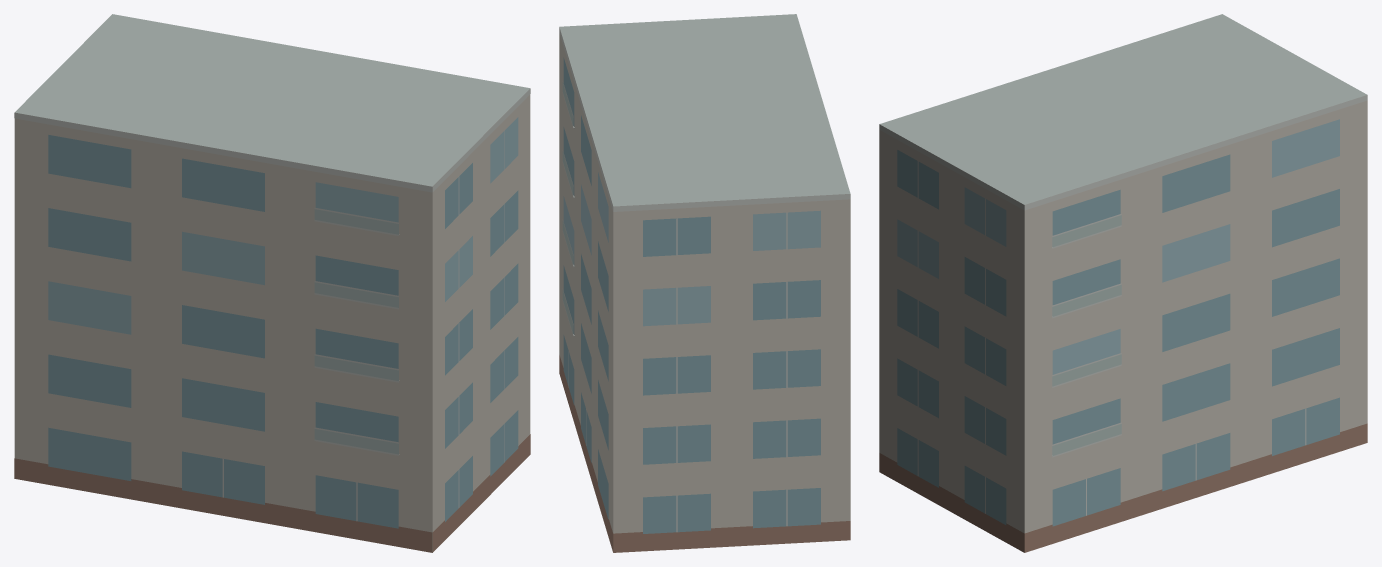
Rendered from residential-3067d6b3-f509-4951-9936-58bb5b80757c.glb.
3 renders of one model, left to right at view 1: azimuth 30°, elevation 25°; view 2: azimuth 150°, elevation 25°; view 3: azimuth 270°, elevation 25°, orthographic. The views are drawn at different scales.
Visible parts, largest first — view 1: residential-3067d6b3-f509-4951-9936-58bb5b80757c.tmp; view 2: residential-3067d6b3-f509-4951-9936-58bb5b80757c.tmp; view 3: residential-3067d6b3-f509-4951-9936-58bb5b80757c.tmp.
Boxes of the visible parts, x1,y1,x2,y2 form: residential-3067d6b3-f509-4951-9936-58bb5b80757c.tmp: [14, 14, 530, 552]; residential-3067d6b3-f509-4951-9936-58bb5b80757c.tmp: [559, 14, 850, 552]; residential-3067d6b3-f509-4951-9936-58bb5b80757c.tmp: [879, 14, 1367, 552].
Bounding box in the file's own units: 18.02 × 15.3 × 19.47.
